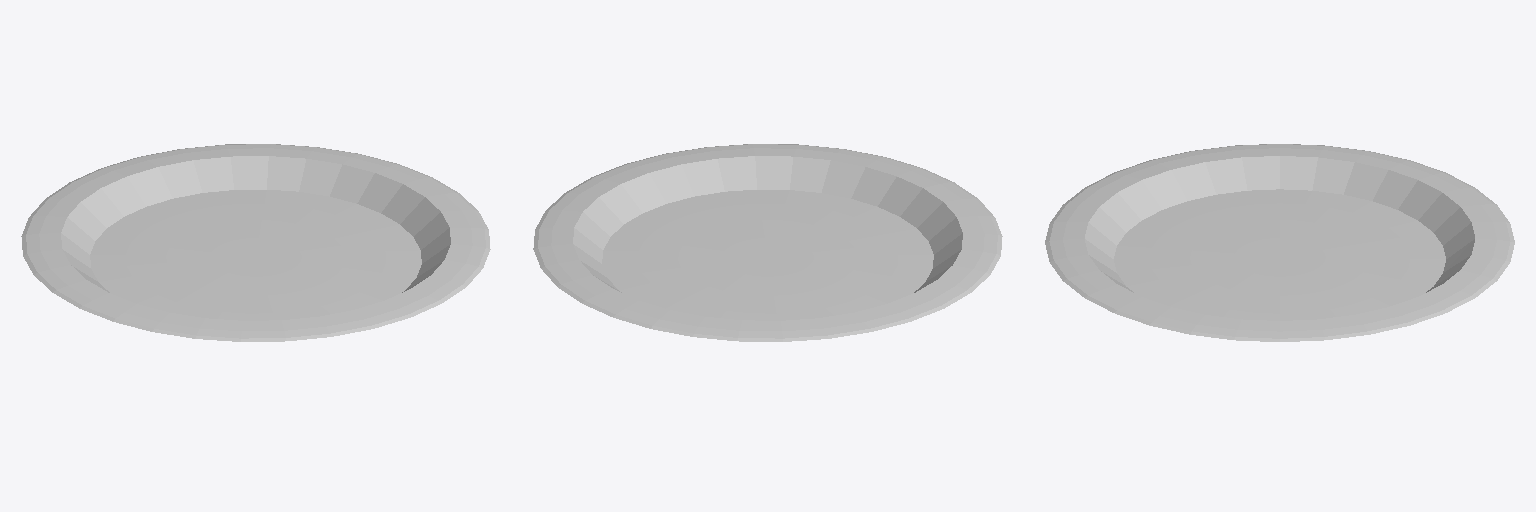
Rendered from petite_assiette.obj.
The picture shows the model from 3 angles: view 1: azimuth 30°, elevation 25°; view 2: azimuth 150°, elevation 25°; view 3: azimuth 270°, elevation 25°; orthographic projection.
Visible parts, largest first — view 1: Sphère; view 2: Sphère; view 3: Sphère.
Boxes of the visible parts, box(x1,y1,x2,y2) form: Sphère: box(21, 144, 490, 341); Sphère: box(533, 144, 1002, 341); Sphère: box(1045, 144, 1514, 341).
Size of the model in its own units: 0.13 by 0.0107 by 0.13.